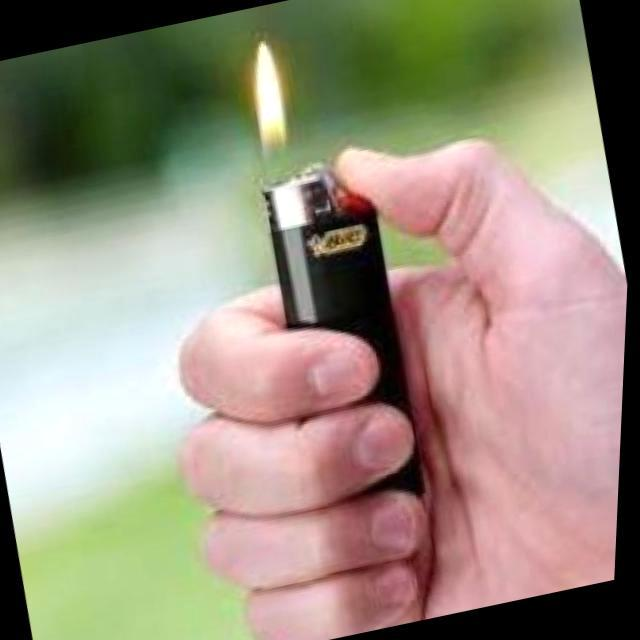fire: (240, 38, 300, 170)
